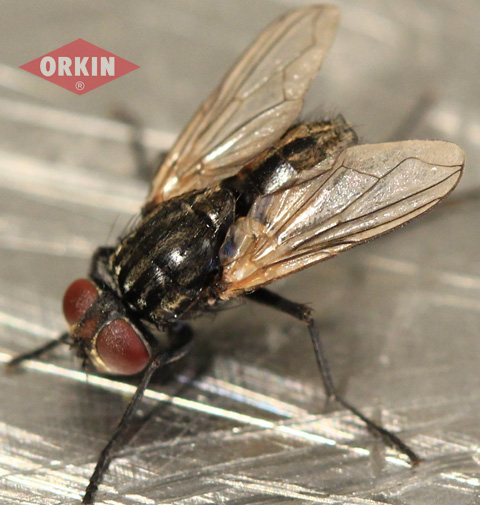house fly: (1, 1, 470, 487)
